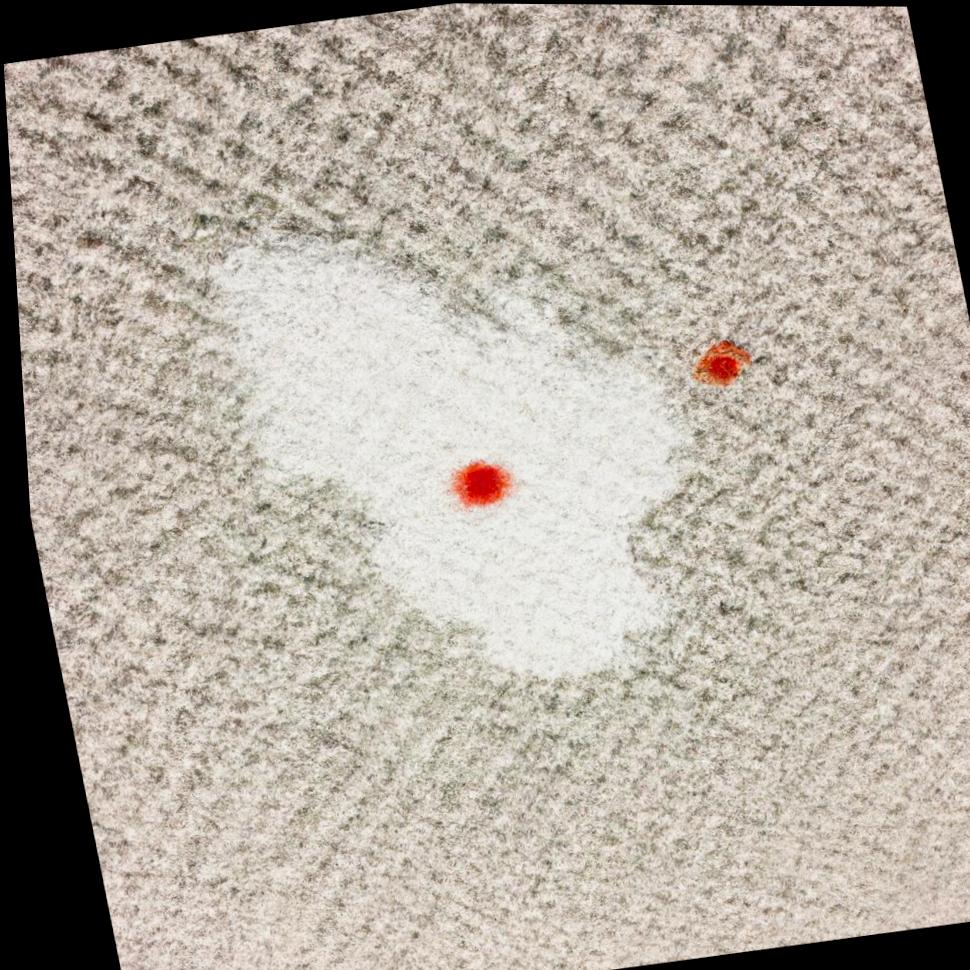Fire: (446, 461, 507, 508), (688, 340, 746, 387)
